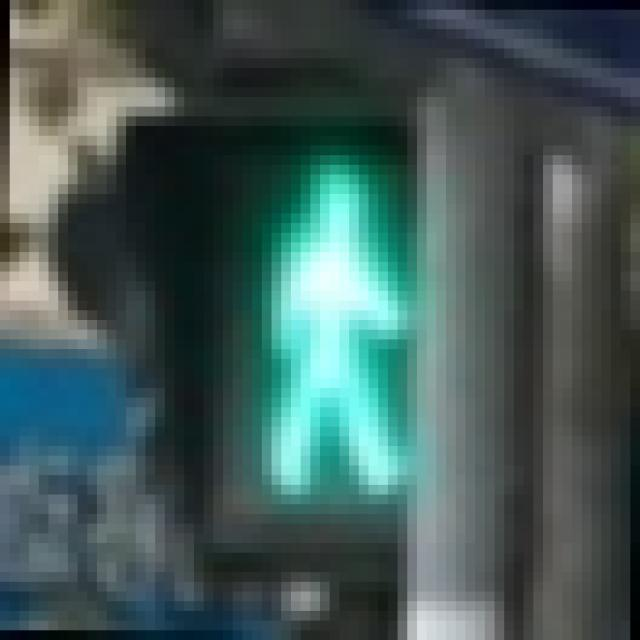geen-crossing: (194, 87, 417, 524)
